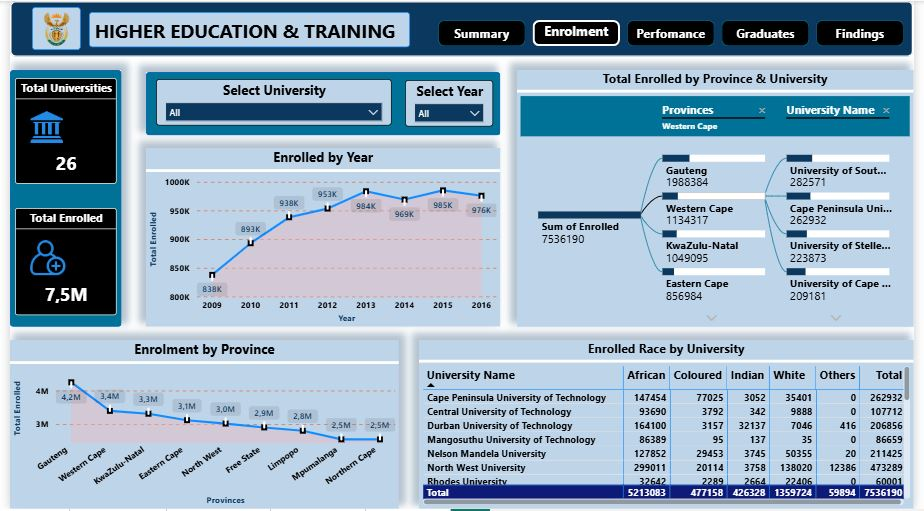

This screenshot's page, from the dashboard's own definition file:
{"tool":"powerbi","page":{"name":"Enrolment","canvas":[1280,720],"ordinal":1},"visuals":[{"type":"tableEx","title":"Enrolled Race by University","fields":{"Values":["Institutions.University Name ","Sum(Race.African )","Sum(Race.Coloured)","Sum(Race.Indian)","Sum(Race.White)","Sum(Race.Unknown)","Calculations.Total Enrolled"]},"box":[579.3,480.5,701.2,239],"z":0},{"type":"lineChart","title":"Enrolled by Year","fields":{"Category":["Years.Years.Variation.Date Hierarchy.Year"],"Y":["Calculations.Total Enrolled"]},"box":[193,208.1,502.3,253.5],"z":1000},{"type":"lineChart","title":"Enrolment by Province","fields":{"Category":["Provinces.Provinces"],"Y":["Calculations.Total Enrolled"]},"box":[0,480.5,551.2,239],"z":2000},{"type":"decompositionTreeVisual","title":"Total Enrolled by Province & University","fields":{"ExplainBy":["Provinces.Provinces","Institutions.University Name "],"Analyze":["Sum(ProvinceUniversity.Enrolled)"]},"box":[718.6,97.7,561.6,363.9],"z":3000},{"type":"shape","box":[0.1,97.2,158,364],"z":4000},{"type":"cardVisual","title":"Total Enrolled","fields":{"Data":["Calculations.Total Enrolled"]},"box":[7.3,293.9,143.9,152.4],"z":5000},{"type":"shape","box":[193,101.2,502.3,89.5],"z":6000},{"type":"shape","box":[0,0,1280.2,79.1],"z":7000},{"type":"textbox","box":[112.5,15,455,50],"z":8000},{"type":"image","box":[31.2,8.8,68.8,61.2],"z":9000},{"type":"slicer","title":"Select University","fields":{"Values":["Institutions.University Name "]},"box":[206.2,110,333.8,66.2],"z":10000},{"type":"slicer","title":"Select Year","fields":{"Values":["Years.Years.Variation.Date Hierarchy.Year"]},"box":[560,112.5,125,66.2],"z":11000},{"type":"cardVisual","title":"Total Universities","fields":{"Data":["CountNonNull(Institutions.University Name )"]},"box":[7.3,109.8,143.9,150],"z":12000},{"type":"pageNavigator","box":[607.3,26.8,663.4,37.8],"z":13000}]}

Visuals, with their boxes in screenshot pixels (x1, y1, x2, y2), scaled from the page's 1280x720 canvas onto the 924x511 screenshot:
"Enrolled Race by University" tableEx: x1=418, y1=341, x2=923, y2=510
"Enrolled by Year" lineChart: x1=139, y1=148, x2=502, y2=328
"Enrolment by Province" lineChart: x1=0, y1=341, x2=398, y2=510
"Total Enrolled by Province & University" decompositionTreeVisual: x1=519, y1=69, x2=923, y2=328
shape: x1=0, y1=69, x2=114, y2=327
"Total Enrolled" cardVisual: x1=5, y1=209, x2=109, y2=317
shape: x1=139, y1=72, x2=502, y2=135
shape: x1=0, y1=0, x2=923, y2=56
textbox: x1=81, y1=11, x2=410, y2=46
image: x1=23, y1=6, x2=72, y2=50
"Select University" slicer: x1=149, y1=78, x2=390, y2=125
"Select Year" slicer: x1=404, y1=80, x2=494, y2=127
"Total Universities" cardVisual: x1=5, y1=78, x2=109, y2=184
pageNavigator: x1=438, y1=19, x2=917, y2=46
